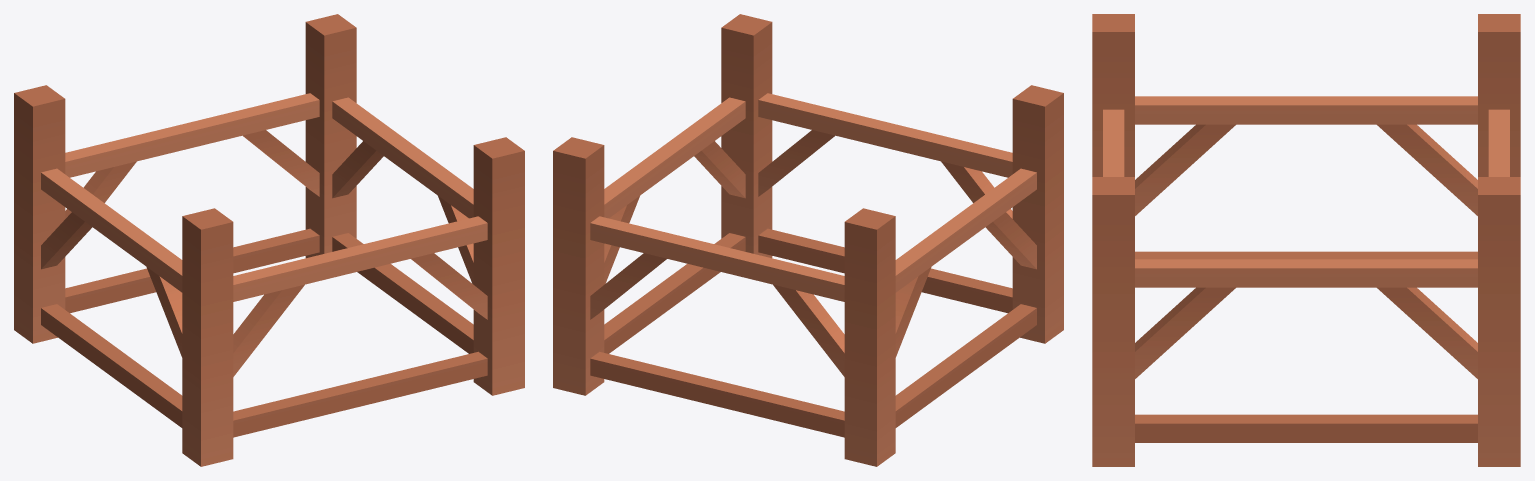
The model's file is kenney-mini-skate-structure-wood.glb.
3 views of the same model, side by side, from view 1: azimuth 30°, elevation 25°; view 2: azimuth 150°, elevation 25°; view 3: azimuth 270°, elevation 25° (orthographic). The views are drawn at different scales.
Parts seen in each view (by area): view 1: structure-wood; view 2: structure-wood; view 3: structure-wood.
Part boxes in pixels (x1,y1,x2,y2): structure-wood: (14,14,524,466); structure-wood: (553,14,1063,466); structure-wood: (1092,14,1520,466).
Bounding box in the file's own units: 1 × 0.7 × 1.
1 material, 1 textured.
